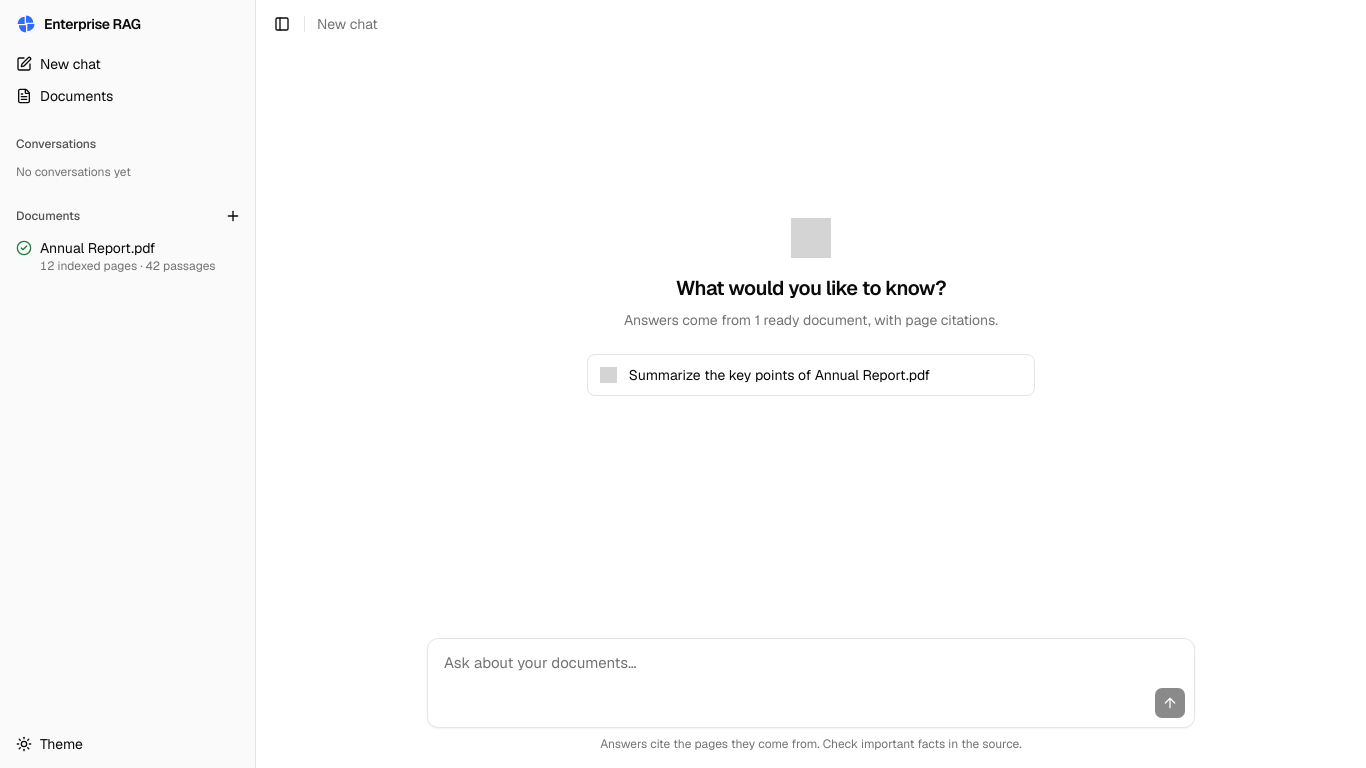
Test: never renders HTML, links or images from answers or documents
This screenshot has width=1366, height=768.
Type "Anything?" into the text box named "Question".
click(811, 663); type("Anything?")  # box [428, 639, 1194, 687]
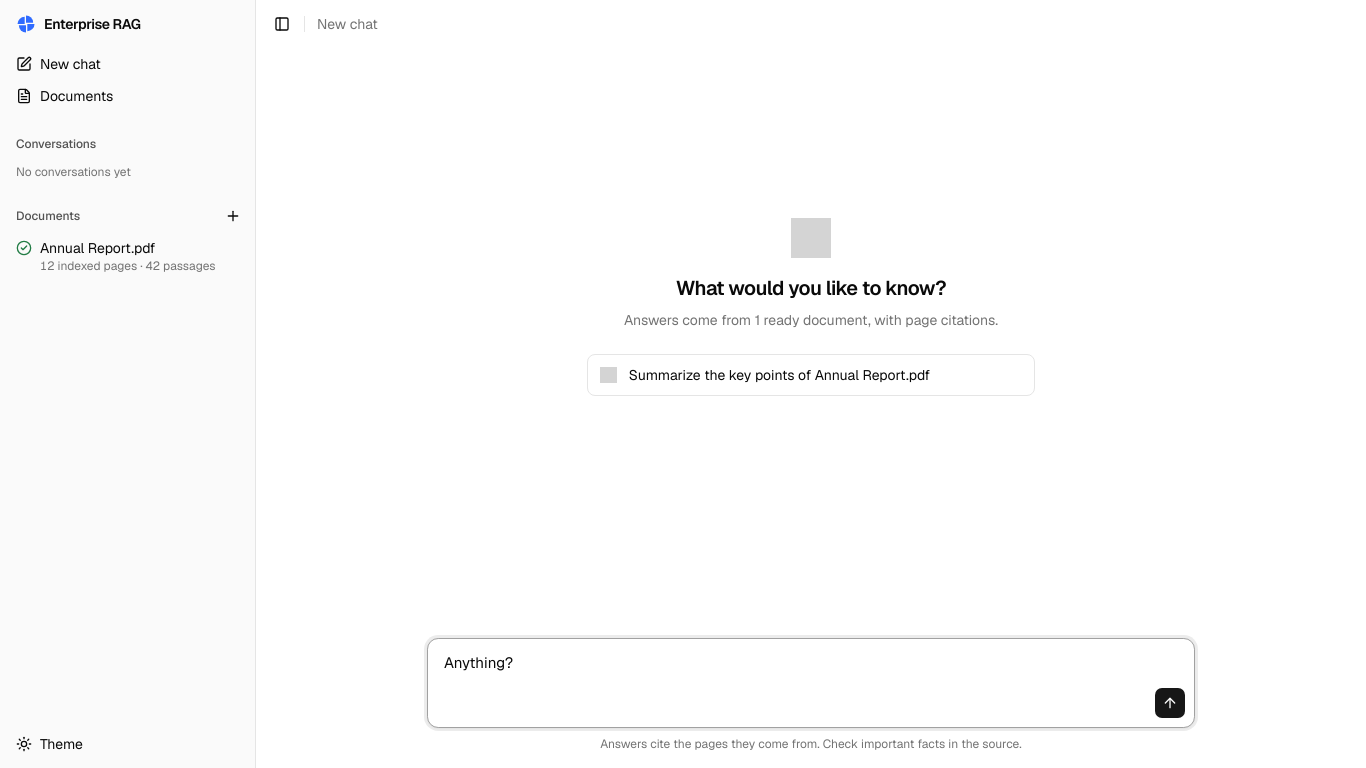
Press Enter
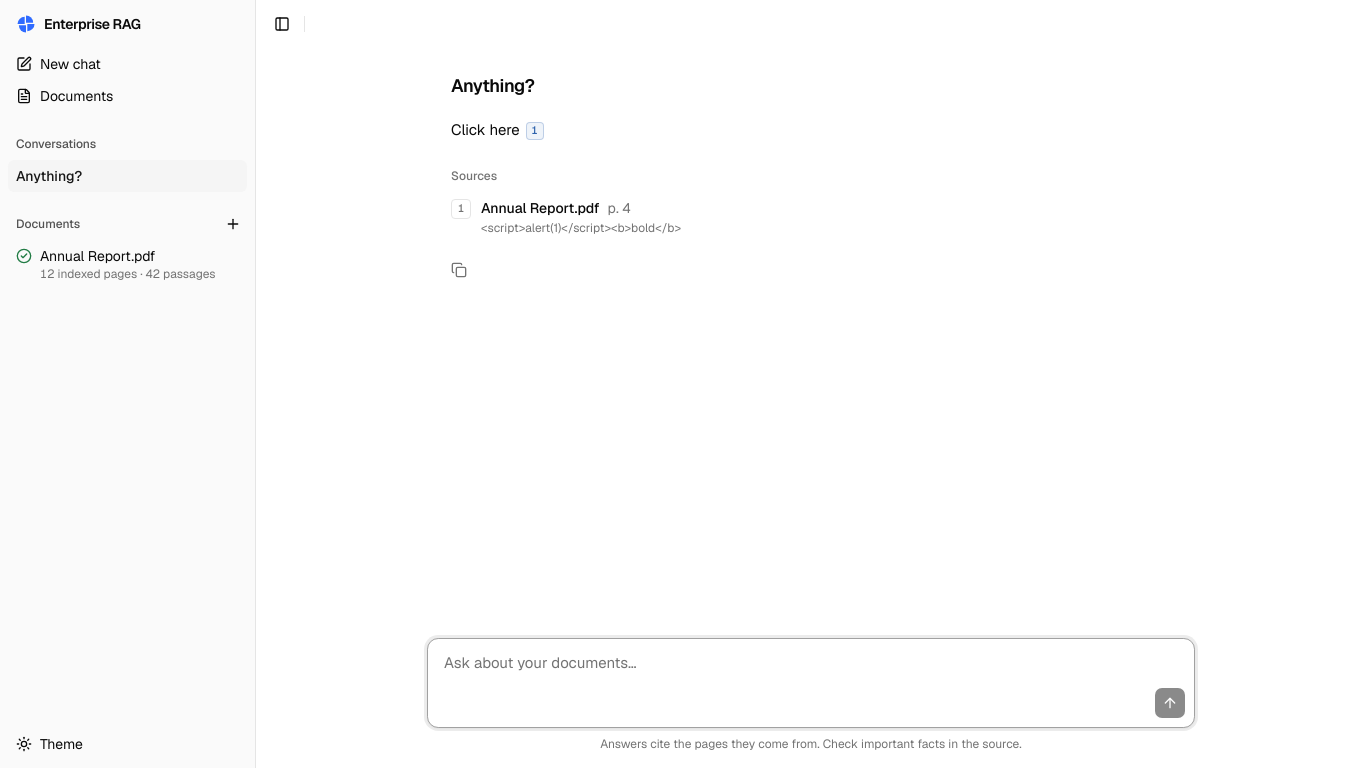
Result: the element "Sources" is shown at [451, 168, 1171, 244]
Result: the text "Click here 1" is shown at [451, 120, 544, 140]
Click the button that starts with "Annual Report.pdf".
click(540, 208)  # box [443, 190, 1179, 244]
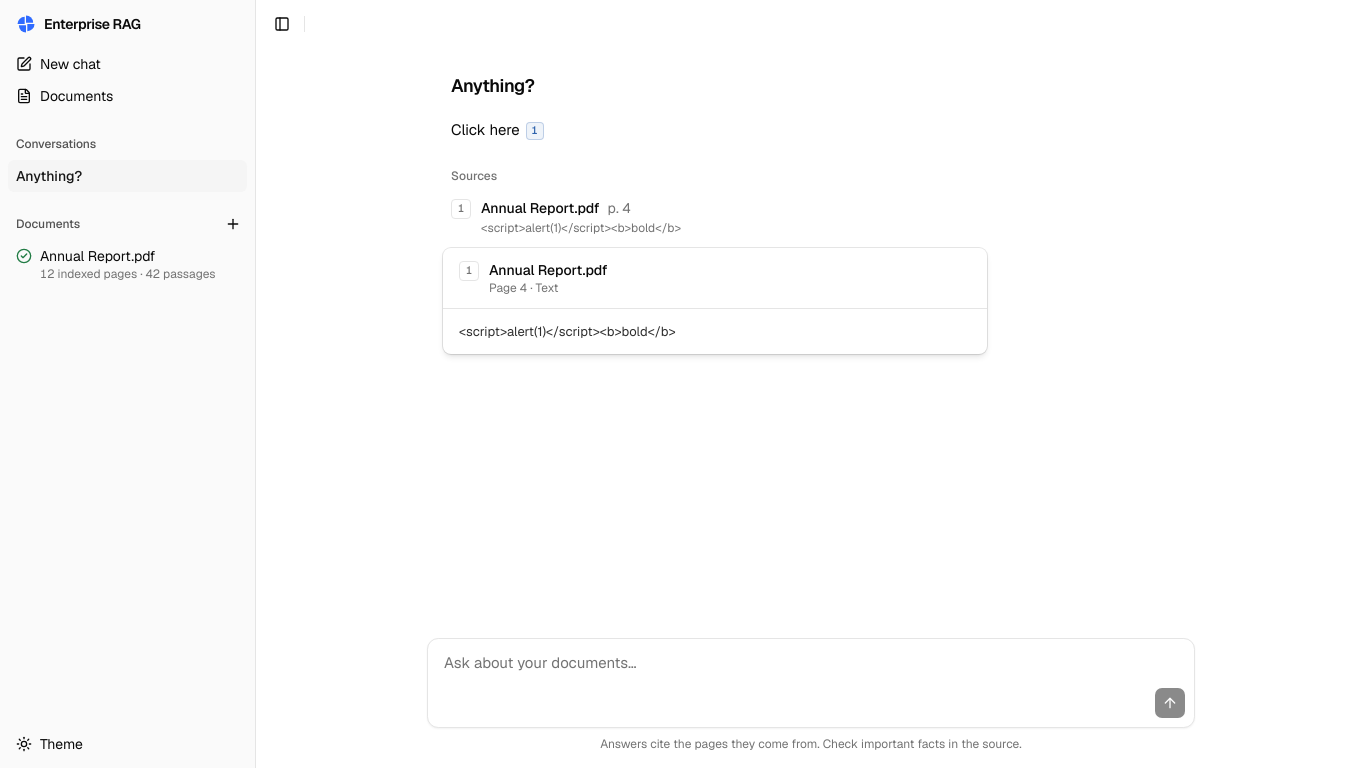
Result: the text "<script>alert(1)</script><b>bold</b>" below "Page 4 · Text" is shown at [459, 323, 676, 340]
